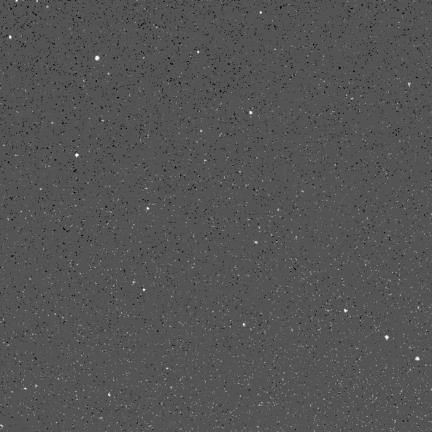blob: (95, 56, 99, 61), (385, 335, 389, 340), (344, 309, 349, 313), (75, 153, 79, 157), (415, 357, 419, 361), (146, 207, 150, 211), (9, 36, 12, 40), (255, 241, 258, 245), (249, 111, 253, 114), (108, 393, 111, 397), (143, 288, 146, 292), (243, 324, 246, 327), (260, 12, 263, 15), (197, 51, 200, 54)
